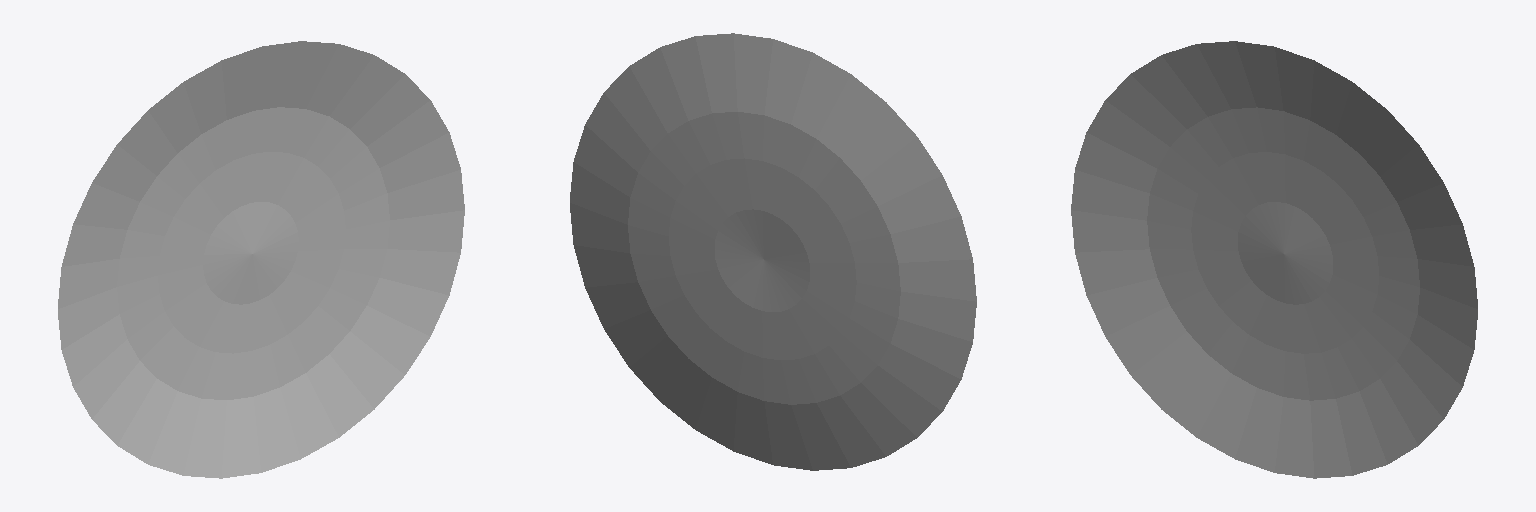
File: ingredient_V5.obj
The picture shows the model from 3 angles: view 1: azimuth 30°, elevation 25°; view 2: azimuth 150°, elevation 25°; view 3: azimuth 330°, elevation 25°; orthographic projection.
Visible parts, largest first — view 1: Sphere; view 2: Sphere; view 3: Sphere.
Boxes of the visible parts, x1,y1,x2,y2 form: Sphere: [58, 41, 464, 478]; Sphere: [570, 33, 976, 470]; Sphere: [1071, 41, 1477, 478].
Bounding box in the file's own units: 3.59 × 3.59 × 0.1617.